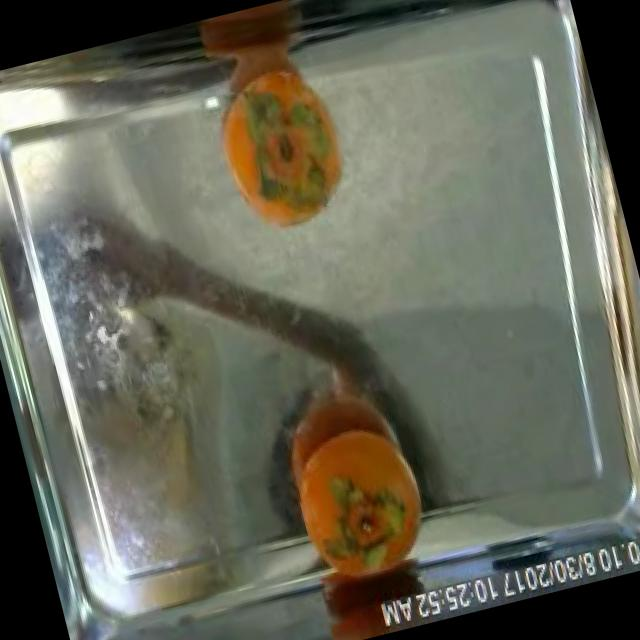Fruit: (266, 385, 454, 601), (192, 45, 371, 262), (304, 545, 399, 640)
